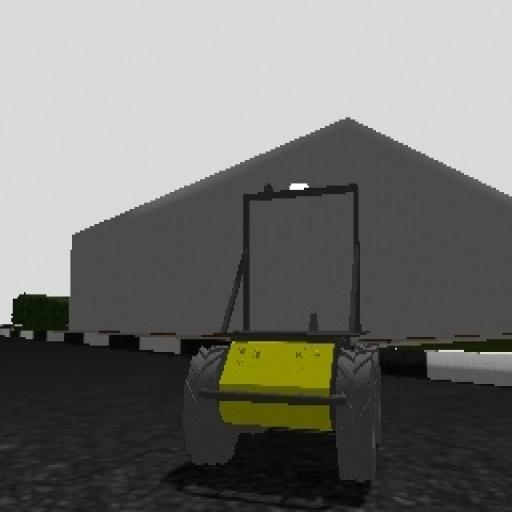huskya200: (184, 177, 386, 512)
